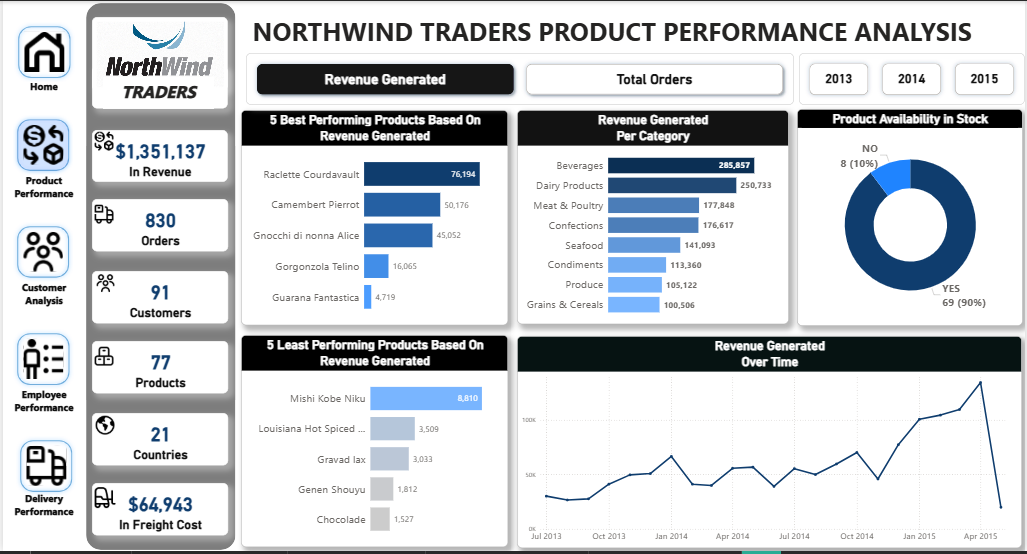

Layout of this report page (visuals, bound fields, positions):
{"tool":"powerbi","page":{"name":"Product Performance","canvas":[1950,1050],"ordinal":1},"visuals":[{"type":"actionButton","box":[20.8,40.7,115.9,114.9],"z":0,"group":"g15"},{"type":"actionButton","box":[20,627,115.9,114.9],"z":0,"group":"g14"},{"type":"actionButton","box":[24.3,830.8,115.3,114.7],"z":0,"group":"g13"},{"type":"group","id":"g1","title":"Group 5","box":[0,40.7,156.4,966.4],"z":1000},{"type":"actionButton","box":[19.1,219,115.4,114.7],"z":1000,"group":"g11"},{"type":"shape","box":[154.1,0,291.4,1050],"z":2000},{"type":"actionButton","box":[20,423.3,115.1,114.2],"z":2000,"group":"g12"},{"type":"clusteredBarChart","title":"5 Best Performing Products Based On","fields":{"Y":["Metric Selection.Selected Measure"],"Category":["products.productName"]},"box":[454.3,207.9,510,411.4],"z":3000},{"type":"shape","box":[169.9,124.3,259.3,81.4],"z":4000,"group":"g8"},{"type":"actionButton","box":[0,315.1,156.4,85],"z":4000,"group":"g11"},{"type":"lineChart","fields":{"Y":["Metric Selection.Selected Measure"],"Category":["Orders.orderDate.Variation.Date Hierarchy.Year","Orders.orderDate.Variation.Date Hierarchy.Month"]},"box":[981.5,639.9,963.9,405.3],"z":4000},{"type":"advancedSlicerVisual","fields":{"Values":["Metric Selection.Metric"]},"box":[463.1,98.7,1045.8,98.7],"z":5000},{"type":"actionButton","box":[0,519.3,156.8,86.1],"z":5000,"group":"g12"},{"type":"image","box":[170.6,31,259.3,141.1],"z":6000,"group":"g10"},{"type":"actionButton","box":[0,136.9,156.4,59.5],"z":6000,"group":"g15"},{"type":"donutChart","title":"Product Availability in Stock","fields":{"Y":["Count(products.productID)"],"Category":["products.Availability"]},"box":[1515,205.7,430.7,413.6],"z":6000},{"type":"card","title":"Total Revenue","fields":{"Values":["Sum(order_details.Revenue Generated)"]},"box":[170.2,246.6,259.3,98.6],"z":6000,"group":"g7"},{"type":"actionButton","box":[0,723,156.8,86.1],"z":6000,"group":"g14"},{"type":"actionButton","box":[0,921.3,156.8,86.1],"z":6000,"group":"g13"},{"type":"textbox","box":[471.5,18.9,1478.4,75.6],"z":7000},{"type":"card","title":"Number of Countries","fields":{"Values":["Count(customers.country)"]},"box":[169.9,785.7,260,100],"z":7000,"group":"g3"},{"type":"advancedSlicerVisual","fields":{"Values":["Orders.orderDate.Variation.Date Hierarchy.Year"]},"box":[1519.4,98.7,430.5,98.7],"z":8000},{"type":"textbox","box":[192.5,145.8,212,60.9],"z":8000,"group":"g10"},{"type":"card","title":"Number of Orders","fields":{"Values":["Count(order_details.orderID)"]},"box":[169.9,378.8,260,100],"z":9000,"group":"g6"},{"type":"clusteredBarChart","title":"5 Least Performing Products Based On","fields":{"Y":["Metric Selection.Selected Measure"],"Category":["products.productName"]},"box":[453.6,637.4,510.3,405.3],"z":9000},{"type":"clusteredBarChart","fields":{"Y":["Metric Selection.Selected Measure"],"Category":["categories.categoryName"]},"box":[982.1,208.2,518.6,409.3],"z":10000},{"type":"card","title":"Number of Customers","fields":{"Values":["CountNonNull(customers.customerID)"]},"box":[169.9,515.6,260,100],"z":11000,"group":"g5"},{"type":"group","id":"g2","title":"Group 6","box":[170.2,919.3,259.3,98.6],"z":11000},{"type":"group","id":"g3","title":"Group 7","box":[169.9,782.7,260,103],"z":12000},{"type":"group","id":"g4","title":"Group 8","box":[169.9,649.2,260,100],"z":13000},{"type":"image","box":[171.1,240.2,46.2,54.6],"z":14000,"group":"g7"},{"type":"group","id":"g5","title":"Group 9","box":[169.9,512.4,260,103.2],"z":14000},{"type":"group","id":"g6","title":"Group 10","box":[169.9,378.8,260,100],"z":15000},{"type":"image","box":[172.9,512.4,44.1,54.6],"z":15000,"group":"g5"},{"type":"group","id":"g7","title":"Group 11","box":[170.2,240.2,259.3,105],"z":16000},{"type":"image","box":[171.8,782.7,46.2,54.6],"z":16000,"group":"g3"},{"type":"group","id":"g8","title":"Group 14","box":[169.9,31,260,175.7],"z":17000},{"type":"card","title":"Number of Products","fields":{"Values":["CountNonNull(products.productID)"]},"box":[169.9,649.2,260,100],"z":17000,"group":"g4"},{"type":"image","box":[170.8,379.8,46.2,54.6],"z":18000,"group":"g6"},{"type":"card","title":"Total Freight Cost","fields":{"Values":["Sum(Orders.freight)"]},"box":[170.2,919.3,260,100],"z":19000,"group":"g2"},{"type":"image","box":[170.8,650.2,46.2,54.6],"z":20000,"group":"g4"},{"type":"group","id":"g9","title":"Group 13","box":[170.6,31,259.3,175.7],"z":21000,"group":"g8"},{"type":"group","id":"g10","title":"Group 12","box":[170.6,31,259.3,175.7],"z":22006,"group":"g9"},{"type":"image","box":[171.1,920.3,50.4,52.5],"z":24000,"group":"g2"},{"type":"group","id":"g11","title":"Group 1","box":[0,219,156.4,181],"z":26000,"group":"g1"},{"type":"group","id":"g12","title":"Group 2","box":[0,423.3,156.4,180.6],"z":27000,"group":"g1"},{"type":"group","id":"g13","title":"Group 4","box":[0,830.8,156.4,176.3],"z":28000,"group":"g1"},{"type":"group","id":"g14","title":"Group 3","box":[0,627,156.4,180.6],"z":29000,"group":"g1"},{"type":"group","id":"g15","title":"Group 4","box":[0,40.7,156.4,155.1],"z":30000,"group":"g1"}]}

Visuals, with their boxes in screenshot pixels (x1, y1, x2, y2), scaled from the page's 1950x1050 canvas onto the 1027x554 screenshot:
actionButton: rect(11, 21, 72, 82)
actionButton: rect(11, 331, 72, 391)
actionButton: rect(13, 438, 74, 499)
"Group 5" group: rect(0, 21, 82, 531)
actionButton: rect(10, 116, 71, 176)
shape: rect(81, 0, 235, 553)
actionButton: rect(11, 223, 71, 284)
"5 Best Performing Products Based On" clusteredBarChart: rect(239, 110, 508, 327)
shape: rect(89, 66, 226, 109)
actionButton: rect(0, 166, 82, 211)
lineChart - Metric Selection.Selected Measure x Orders.orderDate.Variation.Date Hierarchy.Year: rect(517, 338, 1025, 551)
advancedSlicerVisual - Metric Selection.Metric: rect(244, 52, 795, 104)
actionButton: rect(0, 274, 83, 319)
image: rect(90, 16, 226, 91)
actionButton: rect(0, 72, 82, 104)
"Product Availability in Stock" donutChart: rect(798, 109, 1025, 327)
"Total Revenue" card: rect(90, 130, 226, 182)
actionButton: rect(0, 381, 83, 427)
actionButton: rect(0, 486, 83, 532)
textbox: rect(248, 10, 1026, 50)
"Number of Countries" card: rect(89, 415, 226, 467)
advancedSlicerVisual - Orders.orderDate.Variation.Date Hierarchy.Year: rect(800, 52, 1026, 104)
textbox: rect(101, 77, 213, 109)
"Number of Orders" card: rect(89, 200, 226, 253)
"5 Least Performing Products Based On" clusteredBarChart: rect(239, 336, 508, 550)
clusteredBarChart - Metric Selection.Selected Measure x categories.categoryName: rect(517, 110, 790, 326)
"Number of Customers" card: rect(89, 272, 226, 325)
"Group 6" group: rect(90, 485, 226, 537)
"Group 7" group: rect(89, 413, 226, 467)
"Group 8" group: rect(89, 343, 226, 395)
image: rect(90, 127, 114, 156)
"Group 9" group: rect(89, 270, 226, 325)
"Group 10" group: rect(89, 200, 226, 253)
image: rect(91, 270, 114, 299)
"Group 11" group: rect(90, 127, 226, 182)
image: rect(90, 413, 115, 442)
"Group 14" group: rect(89, 16, 226, 109)
"Number of Products" card: rect(89, 343, 226, 395)
image: rect(90, 200, 114, 229)
"Total Freight Cost" card: rect(90, 485, 227, 538)
image: rect(90, 343, 114, 372)
"Group 13" group: rect(90, 16, 226, 109)
"Group 12" group: rect(90, 16, 226, 109)
image: rect(90, 486, 117, 513)
"Group 1" group: rect(0, 116, 82, 211)
"Group 2" group: rect(0, 223, 82, 319)
"Group 4" group: rect(0, 438, 82, 531)
"Group 3" group: rect(0, 331, 82, 426)
"Group 4" group: rect(0, 21, 82, 103)
